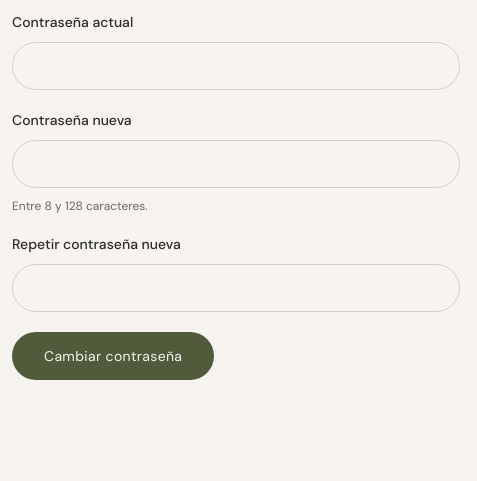
Test case: formulario de cambio de contrasena › deshabilita el boton y no envia dos veces mientras guarda
Type "contrasena-actual-123" into the password field labelled "Contraseña actual" at (236, 66), box [12,42,460,90]
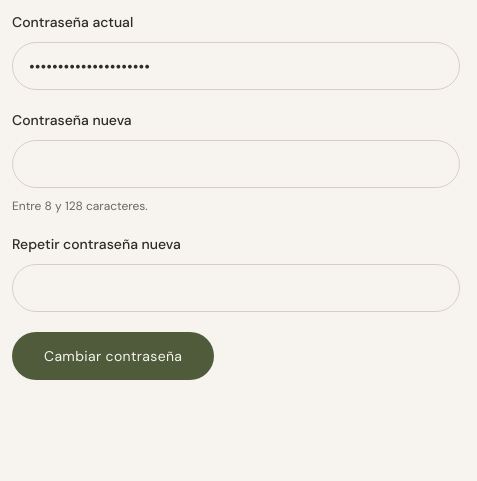
Type "contrasena-nueva-456" into the password field labelled "Contraseña nueva" at (236, 164), box [12,140,460,188]
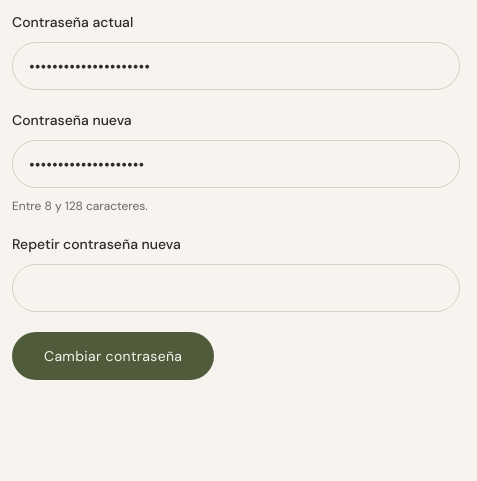
Type "contrasena-nueva-456" into the password field labelled "Repetir contraseña nueva" at (236, 288), box [12,264,460,312]
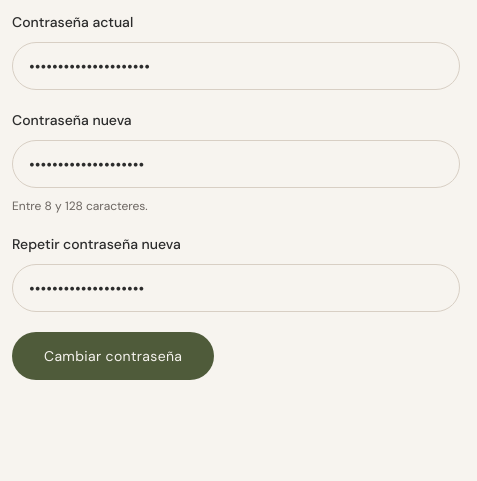
Click the button "Cambiar contraseña" at (113, 356), box [12,332,214,380]
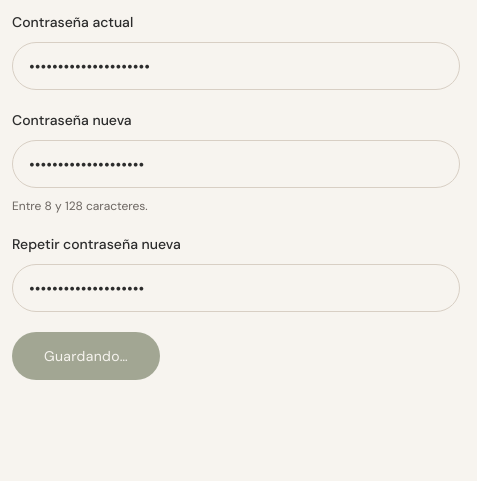
Result: the button named "cambiar contraseña" is disabled at [12,332,160,380]
Submit the form named "cambiar contraseña"
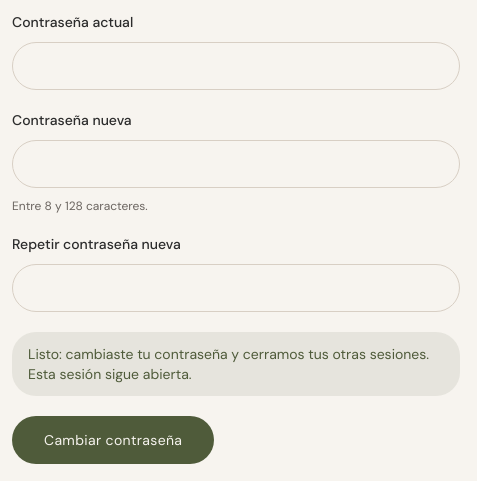
Result: the message is shown at [12,332,460,396]
